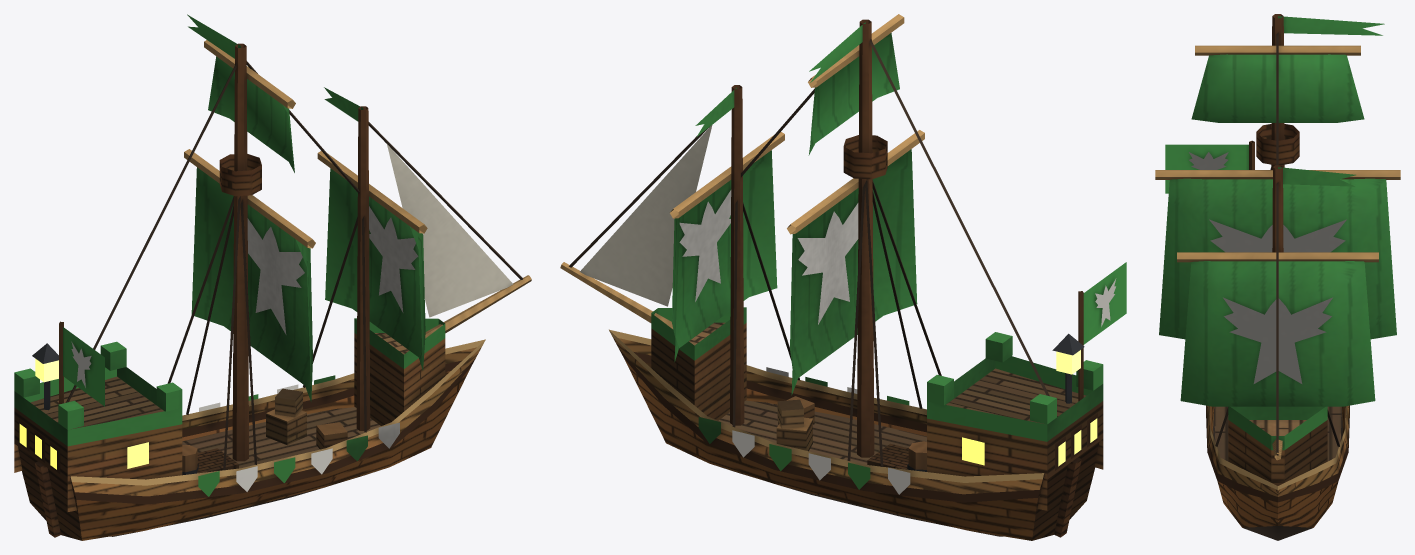
File: warship_green.glb
3 views of the same model, side by side, from view 1: azimuth 30°, elevation 25°; view 2: azimuth 150°, elevation 25°; view 3: azimuth 270°, elevation 25° (orthographic). The views are drawn at different scales.
Visible parts, largest first — view 1: warship_green; view 2: warship_green; view 3: warship_green.
Part boxes in pixels (left/top/right/bottom): warship_green: left=14, top=14, right=531, bottom=540; warship_green: left=560, top=14, right=1126, bottom=540; warship_green: left=1155, top=14, right=1400, bottom=540.
Bounding box in the file's own units: 0.785 × 0.705 × 0.34.
Materials: 3 (1 with a texture image).
